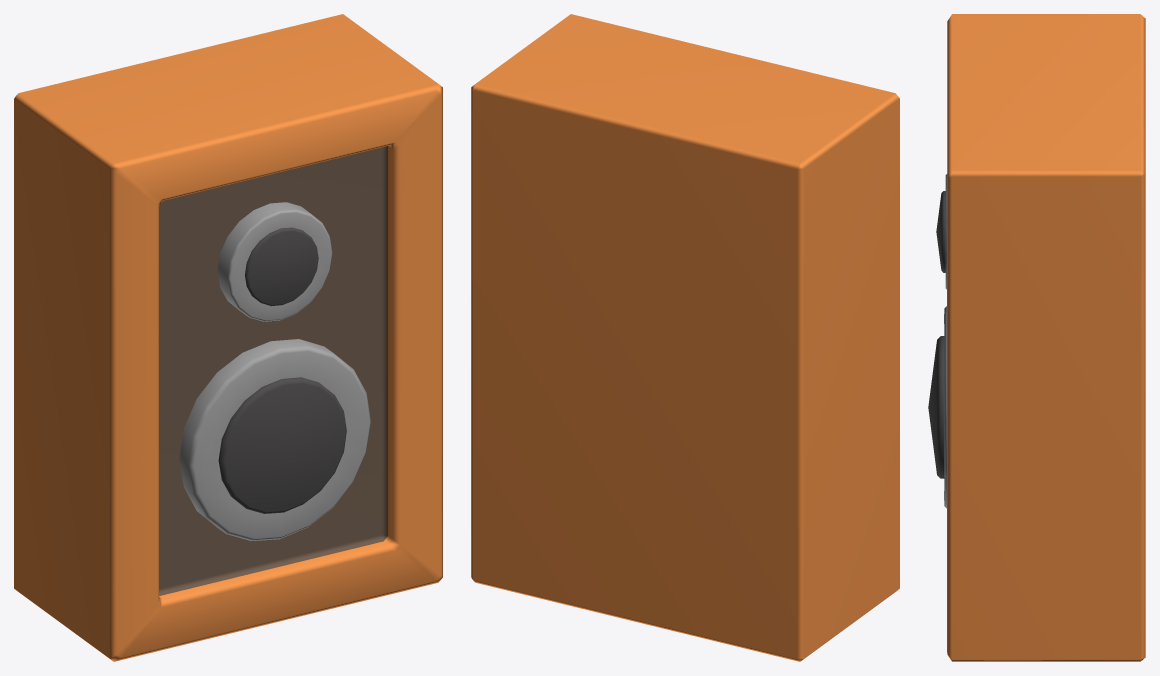
The model's file is speaker3.fbx.
The picture shows the model from 3 angles, left to right: view 1: azimuth 30°, elevation 25°; view 2: azimuth 150°, elevation 25°; view 3: azimuth 270°, elevation 25°; orthographic projection.
Visible parts, largest first — view 1: loa3; view 2: loa3; view 3: loa3.
Boxes of the visible parts, left/top/right/bottom form: loa3: left=14, top=14, right=442, bottom=661; loa3: left=471, top=14, right=899, bottom=661; loa3: left=928, top=14, right=1145, bottom=661.
Bounding box in the file's own units: 0.5686 × 0.8129 × 0.3257.
